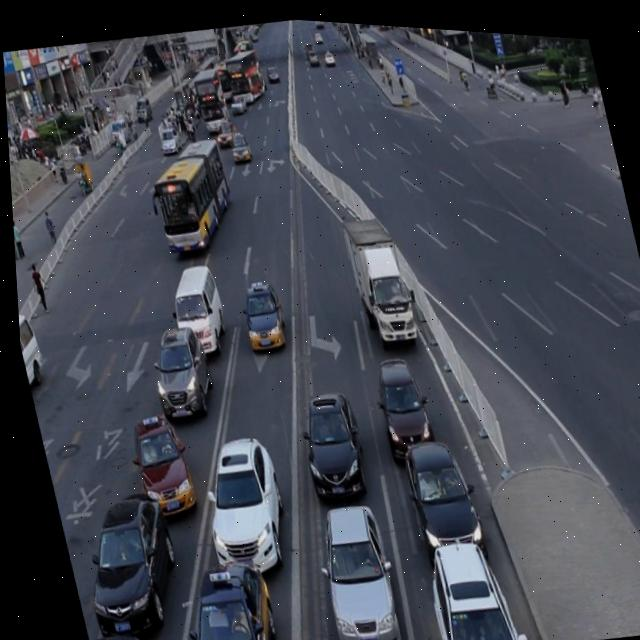bus: (337, 207, 414, 339)
car: (61, 483, 185, 640), (182, 425, 292, 581), (299, 490, 402, 640), (408, 521, 514, 640), (391, 424, 481, 558), (158, 547, 279, 640), (286, 379, 368, 501), (120, 406, 195, 520), (364, 346, 435, 463), (138, 317, 217, 422), (231, 273, 286, 349), (78, 624, 145, 640)
truck: (158, 255, 230, 360), (14, 308, 44, 392)
van: (141, 130, 239, 255)
